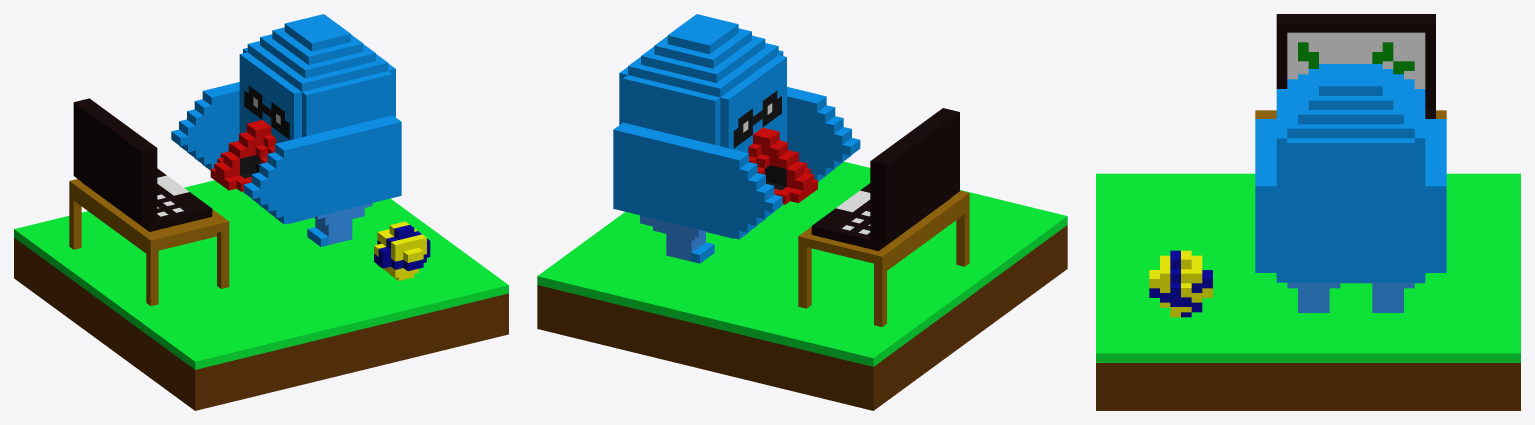
The model's file is nosepass.glb.
The picture shows the model from 3 angles, left to right: view 1: azimuth 30°, elevation 25°; view 2: azimuth 150°, elevation 25°; view 3: azimuth 270°, elevation 25°; orthographic projection. The views are drawn at different scales.
Size of the model in its own units: 4 by 3 by 4.
1 material, 1 textured.
